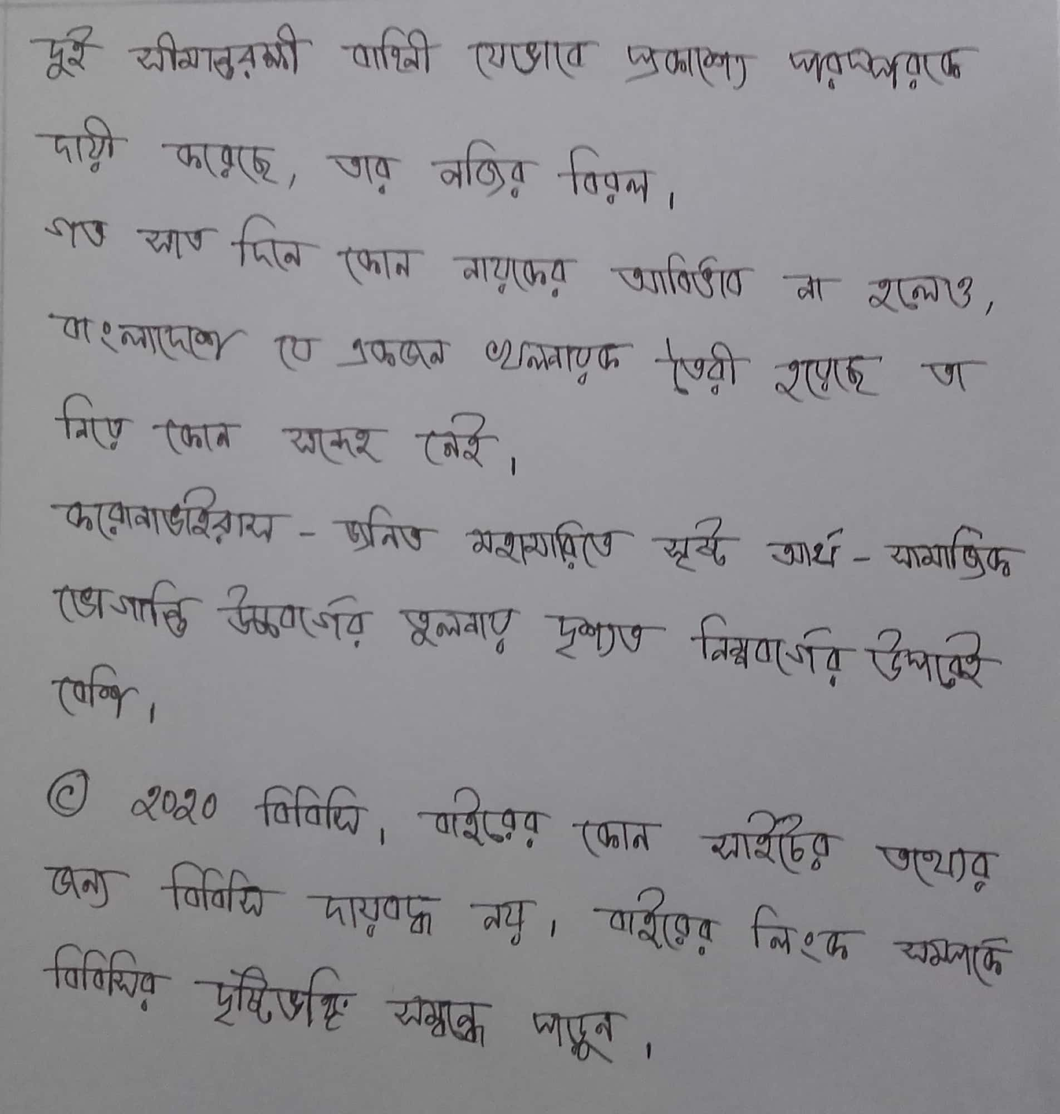line: (36, 857, 1017, 995), (38, 768, 1013, 897), (31, 578, 1002, 695), (18, 207, 997, 319), (38, 484, 1032, 587), (45, 309, 990, 409), (33, 943, 659, 1068), (24, 18, 984, 97), (23, 113, 681, 214), (48, 389, 522, 477), (40, 665, 158, 724)
